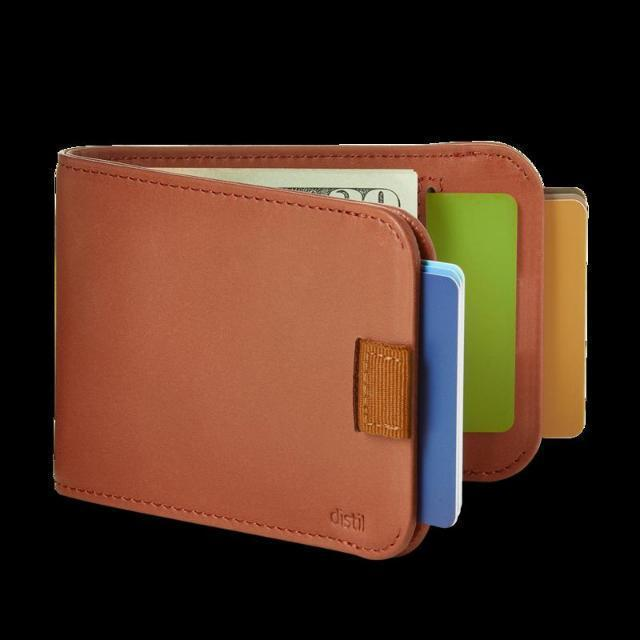wallet: (43, 134, 559, 564)
